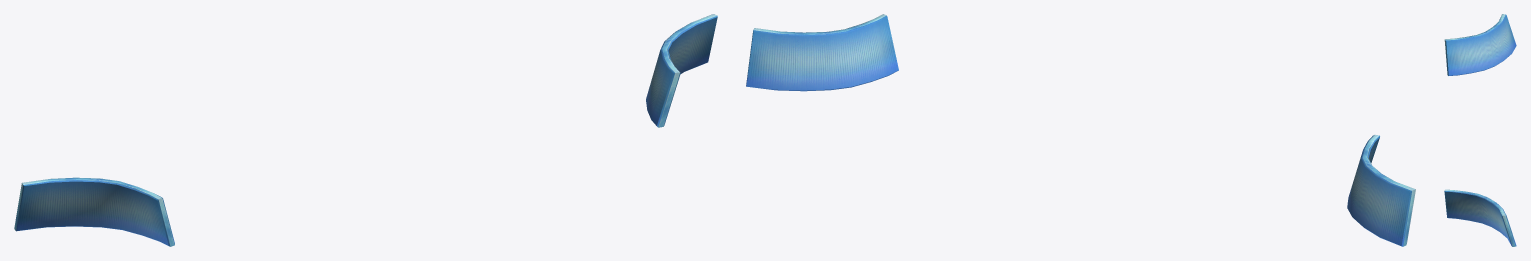
Rendered from pref_sm_beach_winter_pointmol_glass02_lv1.fbx.
3 renders of one model, left to right at view 1: azimuth 30°, elevation 25°; view 2: azimuth 150°, elevation 25°; view 3: azimuth 270°, elevation 25°, orthographic. The views are drawn at different scales.
Visible parts, largest first — view 1: pref_sm_beach_winter_pointmol_glass02_lv1; view 2: pref_sm_beach_winter_pointmol_glass02_lv1; view 3: pref_sm_beach_winter_pointmol_glass02_lv1.
Part boxes in pixels (bbox=[...]): pref_sm_beach_winter_pointmol_glass02_lv1: bbox=[14, 14, 717, 246]; pref_sm_beach_winter_pointmol_glass02_lv1: bbox=[746, 14, 1415, 246]; pref_sm_beach_winter_pointmol_glass02_lv1: bbox=[1444, 14, 1516, 246].
Size of the model in its own units: 29.13 by 2.12 by 4.41.
